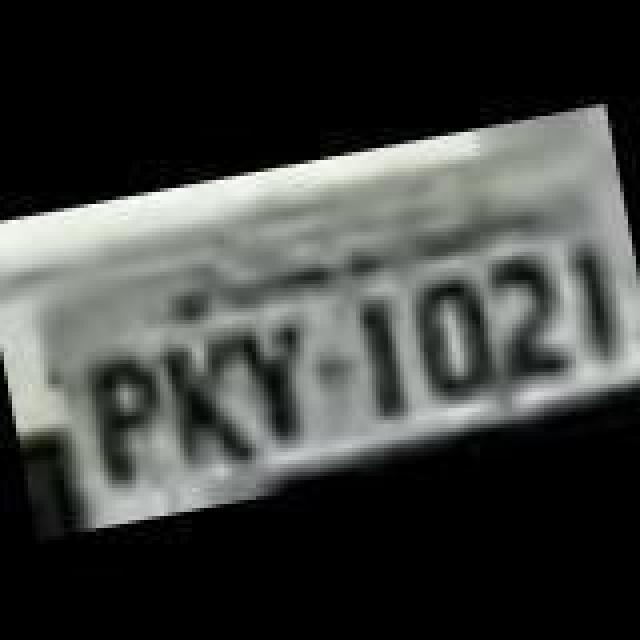1: (350, 288, 418, 424), (566, 238, 626, 370)
2: (478, 244, 578, 380)
K: (160, 328, 256, 472)
O: (414, 270, 498, 402)
P: (84, 350, 172, 490)
Y: (236, 316, 324, 452)
